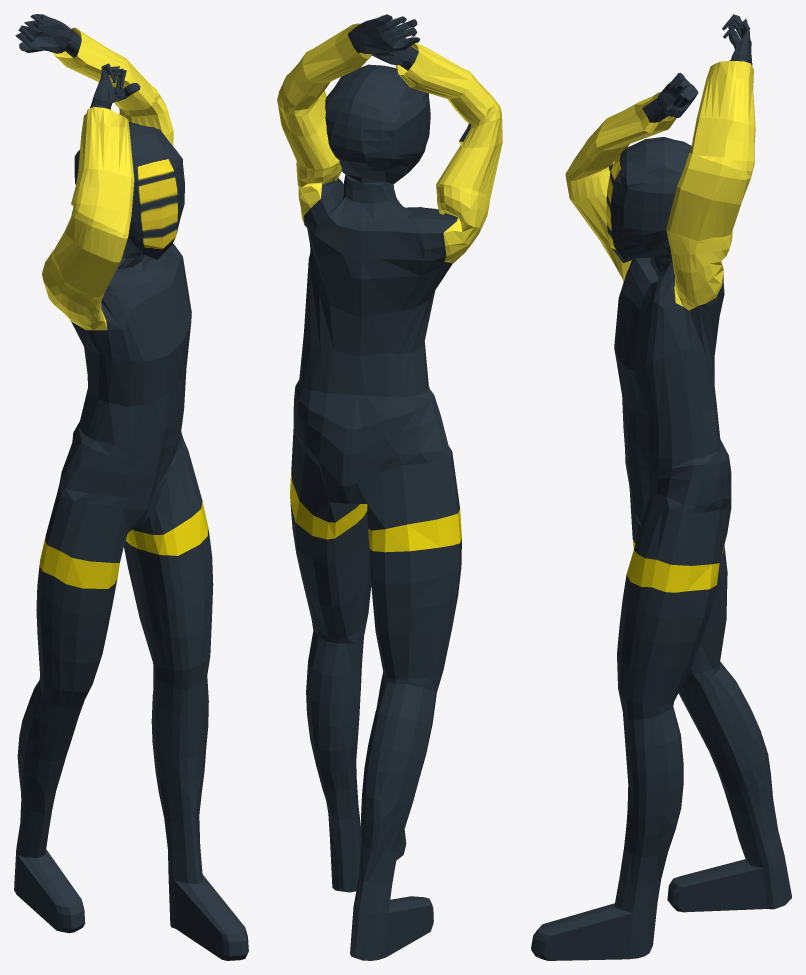
Rendered from Sentry_Attack_000013.obj.
The picture shows the model from 3 angles, left to right: view 1: azimuth 30°, elevation 25°; view 2: azimuth 150°, elevation 25°; view 3: azimuth 270°, elevation 25°; orthographic projection. The views are drawn at different scales.
Parts seen in each view (by area): view 1: Cube; view 2: Cube; view 3: Cube.
Part boxes in pixels (<box>): Cube: <box>14,14,248,960</box>; Cube: <box>277,14,502,960</box>; Cube: <box>531,14,791,960</box>.
Bounding box in the file's own units: 0.8634 × 4.39 × 1.17.
